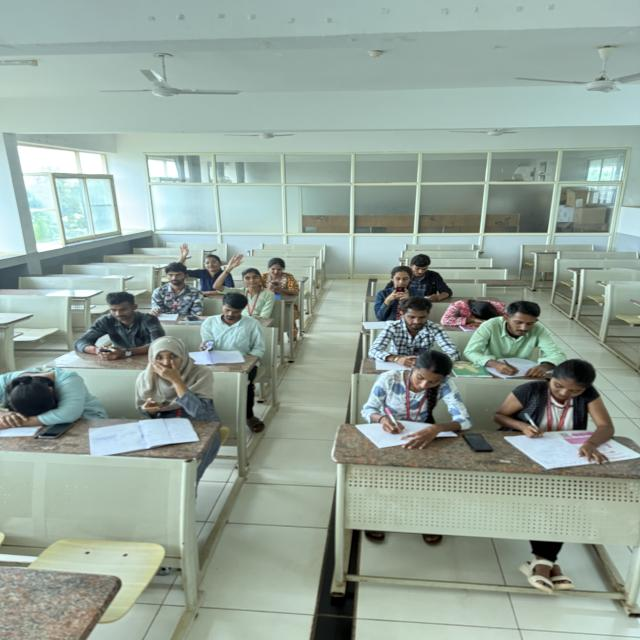Hand Rising: (214, 250, 272, 317), (170, 235, 228, 292)
Sleeping: (4, 355, 107, 429), (442, 289, 513, 334)
Using Phone: (369, 294, 456, 368), (74, 283, 161, 356), (371, 262, 418, 319)
Writing: (507, 356, 625, 459), (359, 344, 466, 439), (469, 300, 562, 384), (193, 289, 263, 366)
